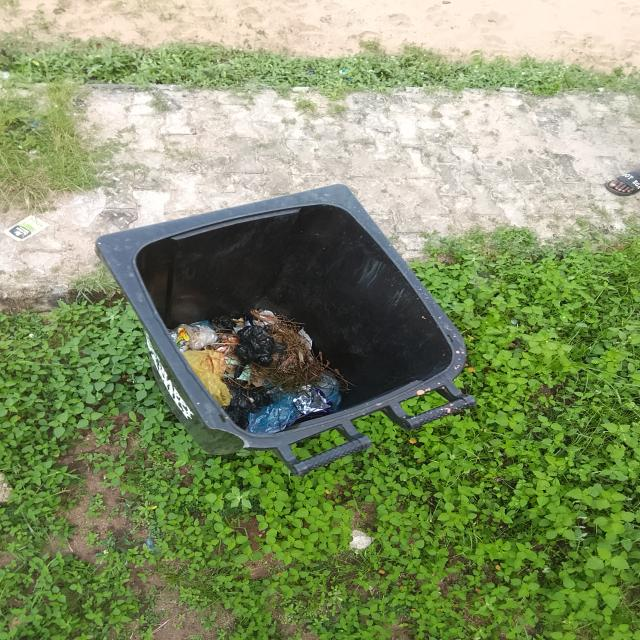half-full: (103, 191, 466, 445)
